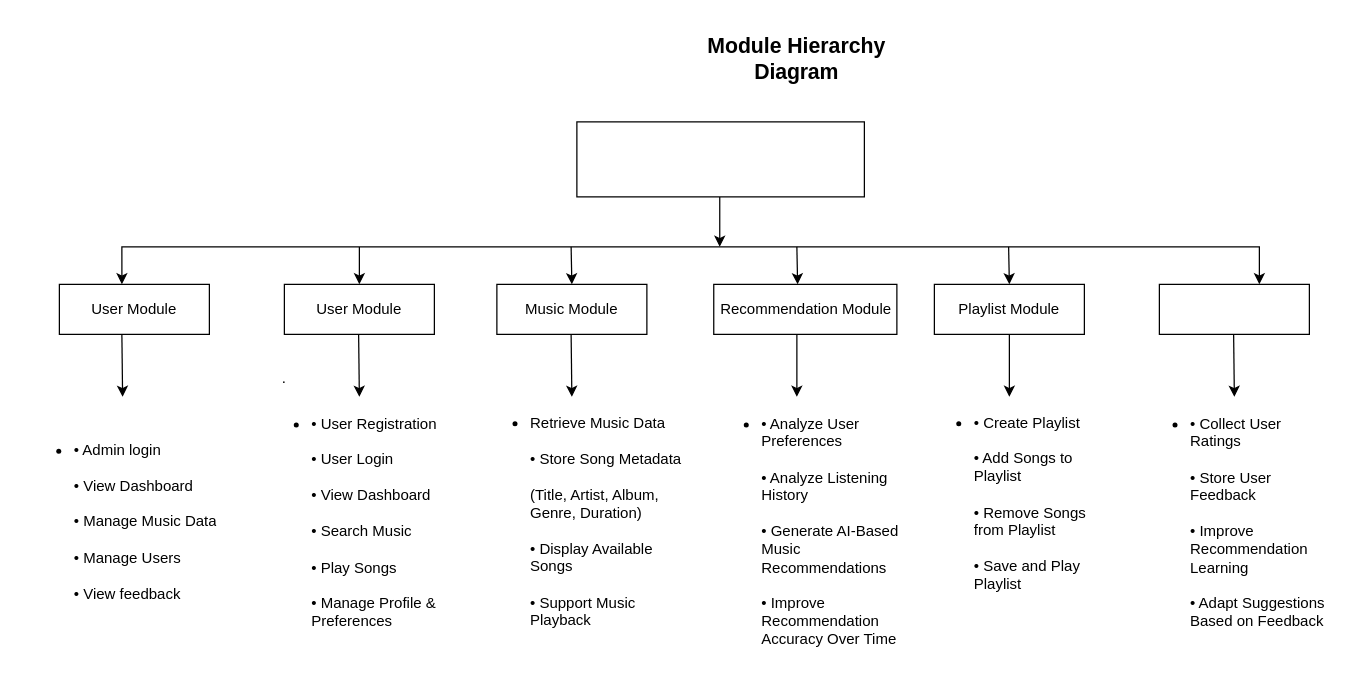
Image size: 1353x686. Some labels were removed from this diagram. The shapes that lost their labels are listed below. From the top down, each one's box as (x1, y1, x2, y2) in pixels, then its label:
(576, 121, 864, 197): AI- Powered Music Recommendation system
(1158, 283, 1309, 334): Feedback Module
